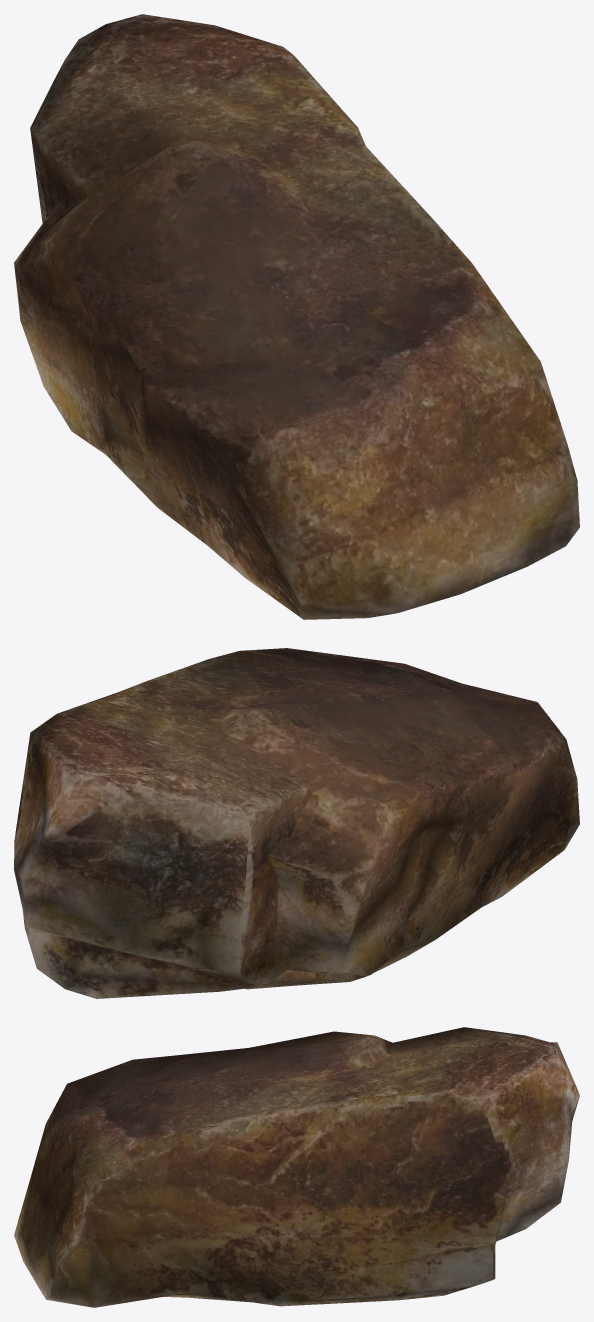
File: rock1.glb
3 views of the same model, one above another, from view 1: azimuth 30°, elevation 25°; view 2: azimuth 150°, elevation 25°; view 3: azimuth 270°, elevation 25° (orthographic). The views are drawn at different scales.
Parts seen in each view (by area): view 1: lod1; view 2: lod1; view 3: lod1.
Part boxes in pixels (x1,y1,x2,y2): lod1: (14, 14, 579, 619); lod1: (14, 648, 579, 998); lod1: (14, 1027, 579, 1307).
Bounding box in the file's own units: 0.8078 × 0.684 × 1.55.
1 material, 1 textured.
